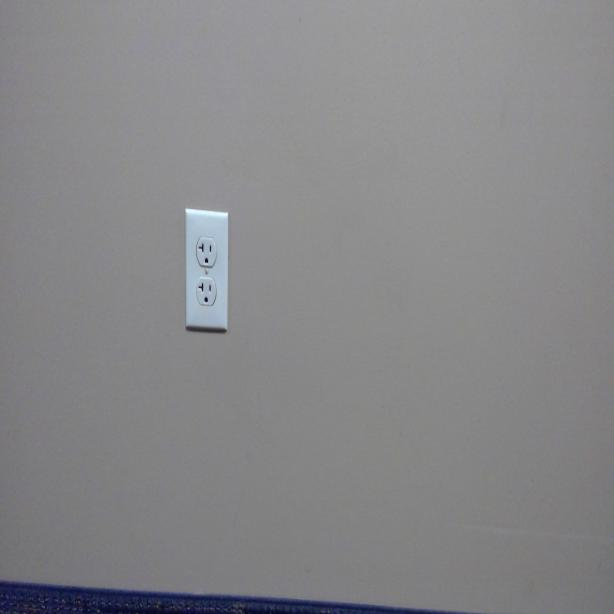typeb: (196, 236, 216, 266), (196, 277, 216, 306)
